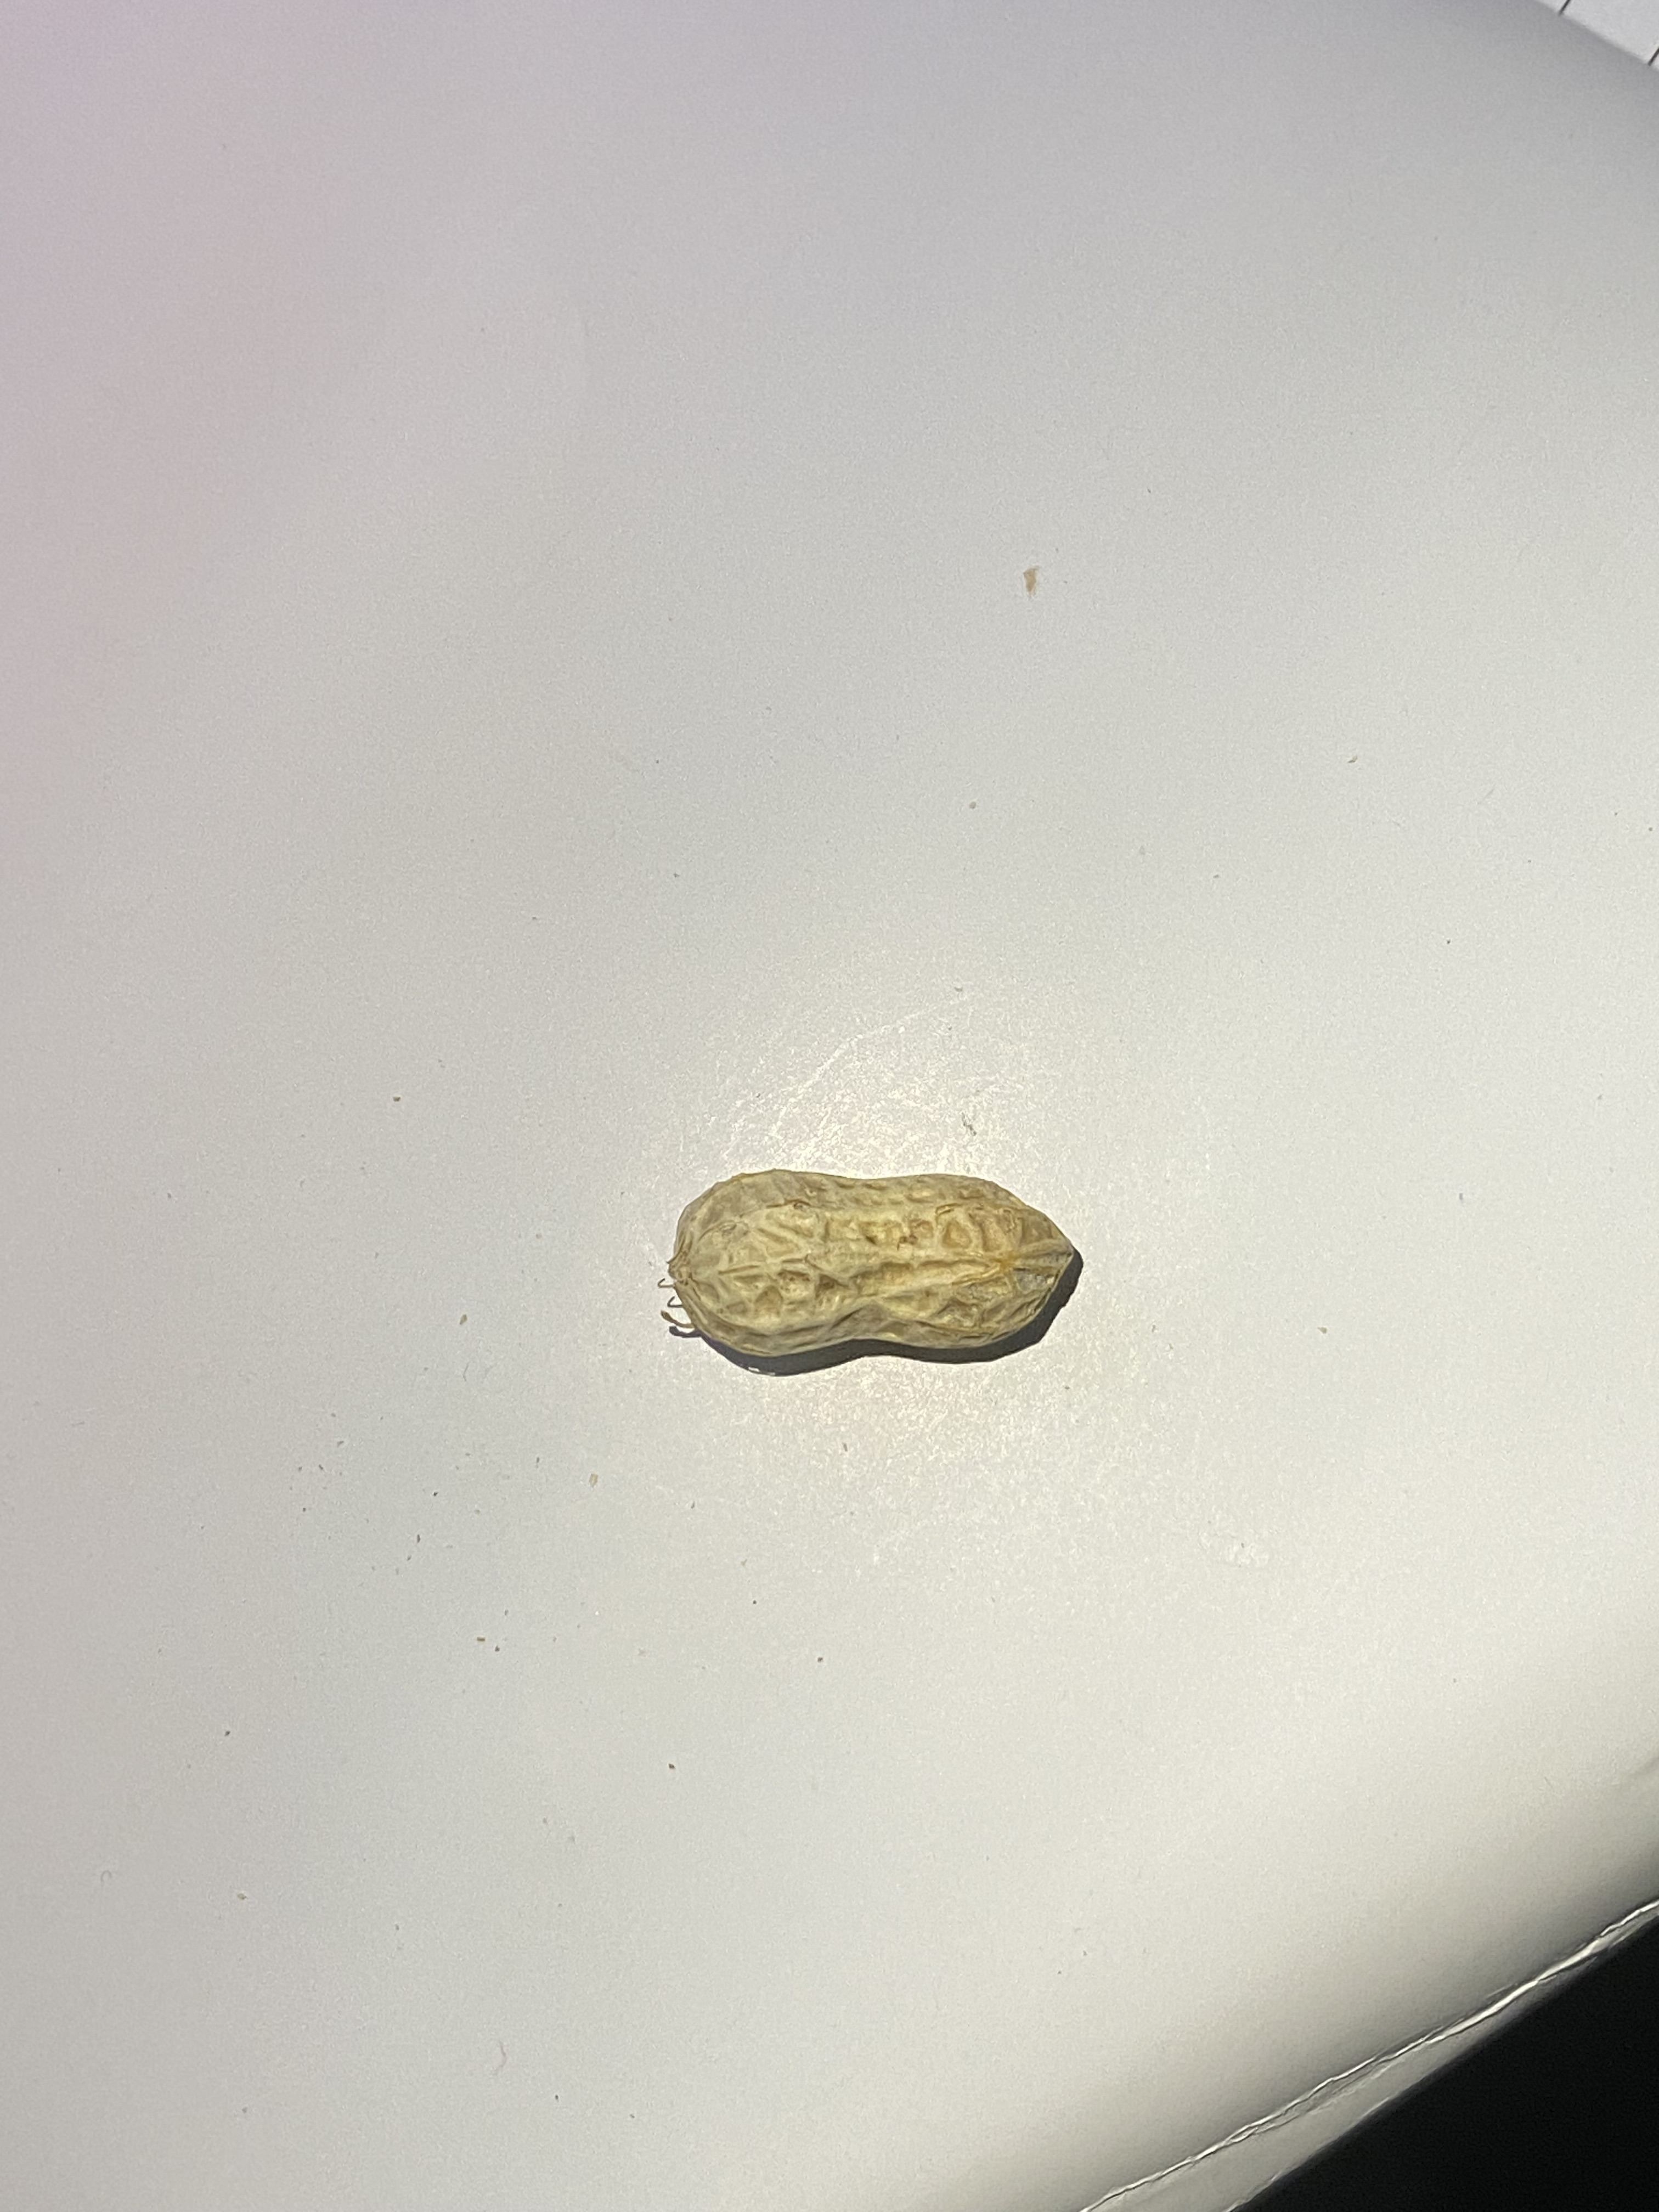kacang2: (559, 1123, 1143, 1425)
